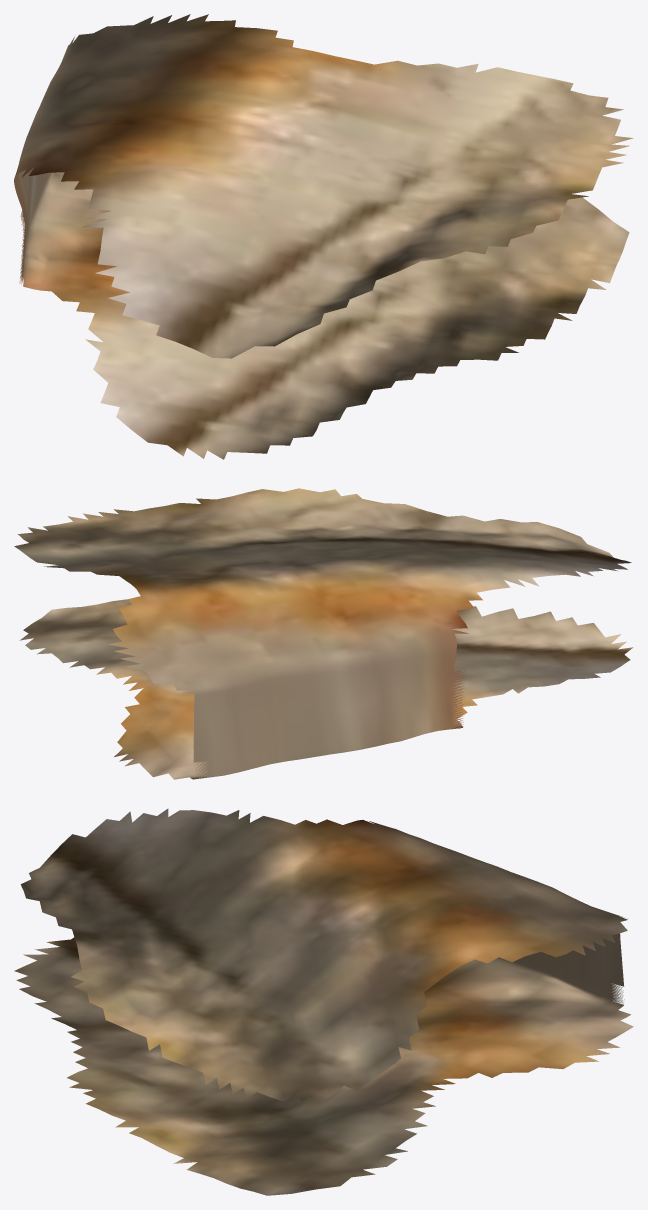
Rendered from chicken-0.glb.
3 renders of one model, top to bottom at view 1: azimuth 30°, elevation 25°; view 2: azimuth 150°, elevation 25°; view 3: azimuth 270°, elevation 25°, orthographic. The views are drawn at different scales.
Parts seen in each view (by area): view 1: fetta di pollo_Default OBJ_0; view 2: fetta di pollo_Default OBJ_0; view 3: fetta di pollo_Default OBJ_0.
Part boxes in pixels (bbox=[...]): fetta di pollo_Default OBJ_0: bbox=[14, 14, 633, 459]; fetta di pollo_Default OBJ_0: bbox=[14, 488, 633, 779]; fetta di pollo_Default OBJ_0: bbox=[14, 808, 633, 1195].
Bounding box in the file's own units: 0.03 × 0.00765 × 0.0294.
1 material, 1 textured.
